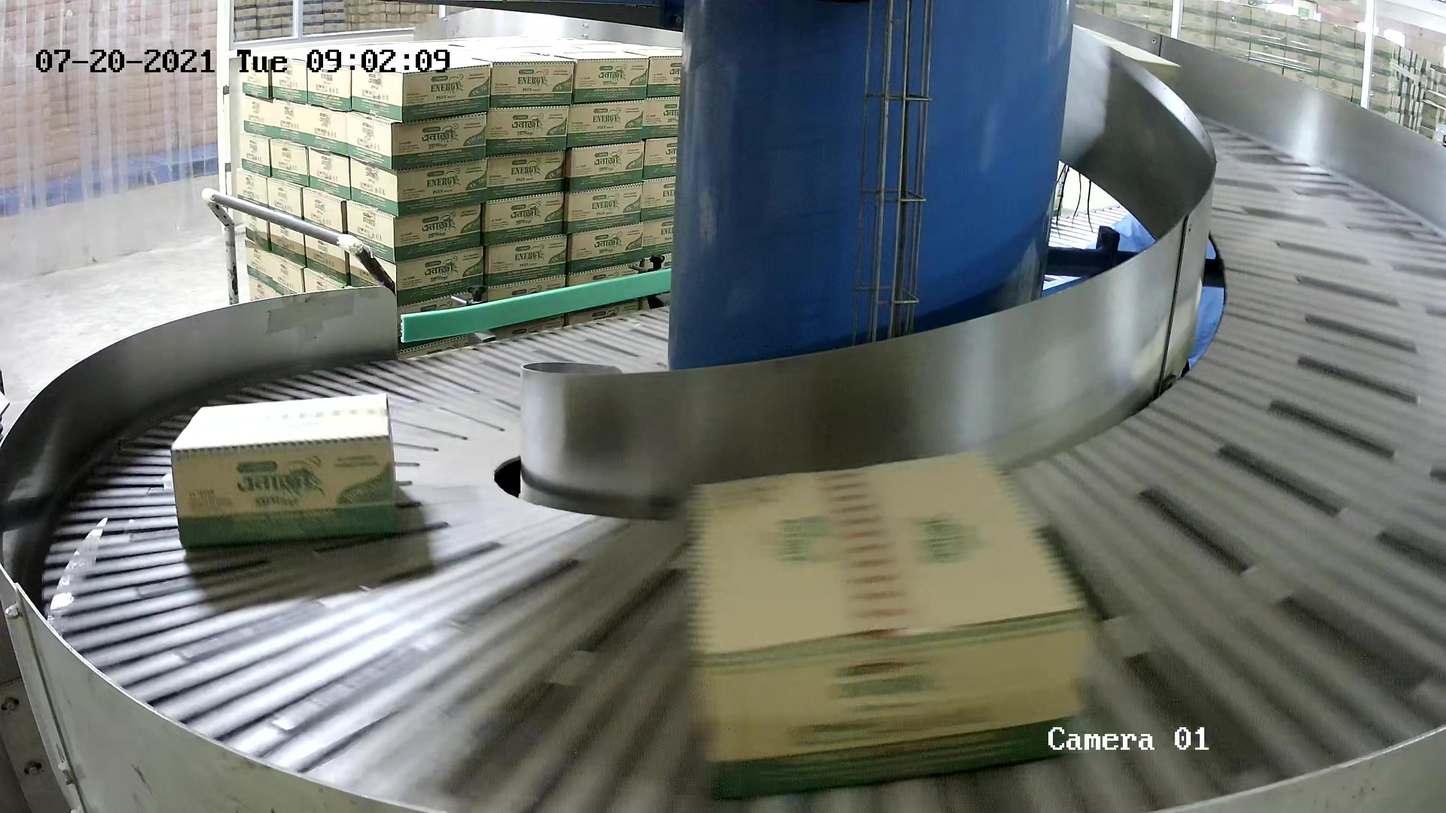Box: (683, 447, 1091, 801), (169, 391, 401, 551)
